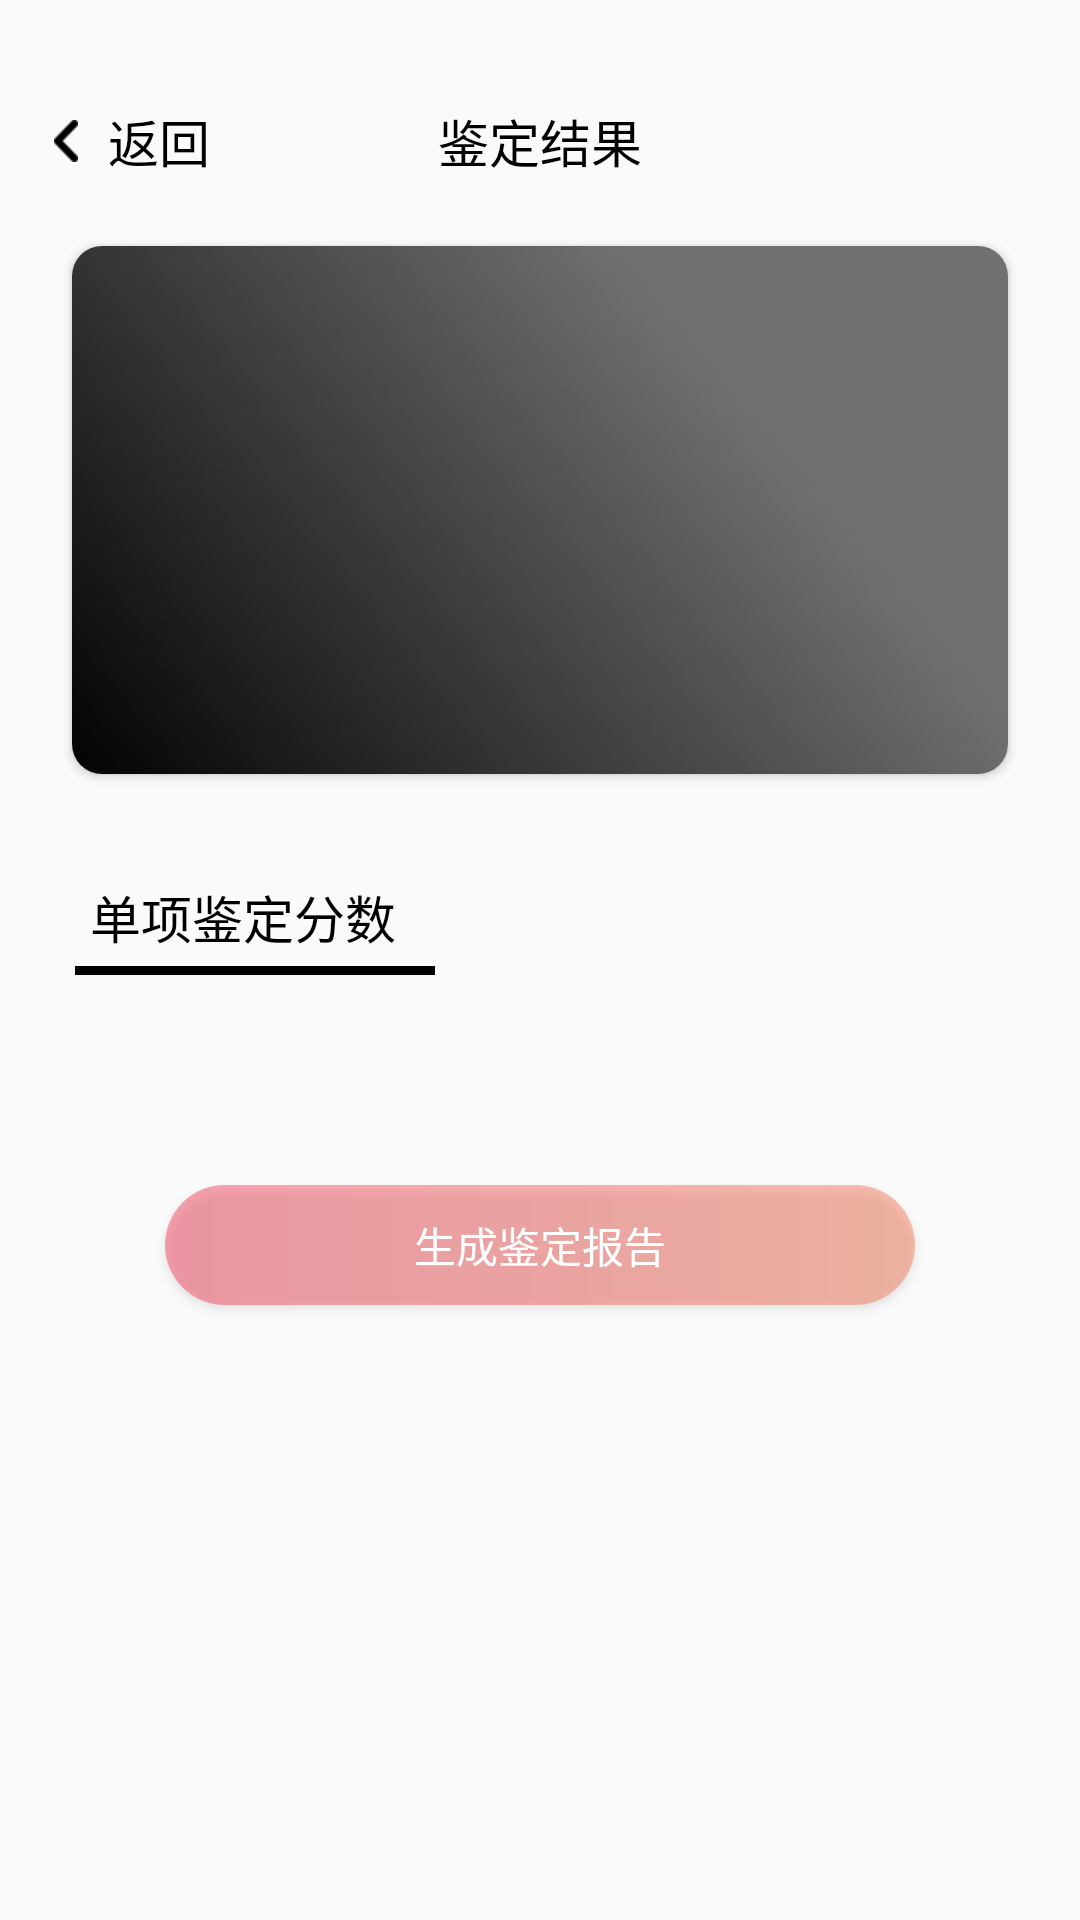

Point at icon controls on the screen. Image size 1080×1920, points as (x,y).
backarrow: (66,141)
